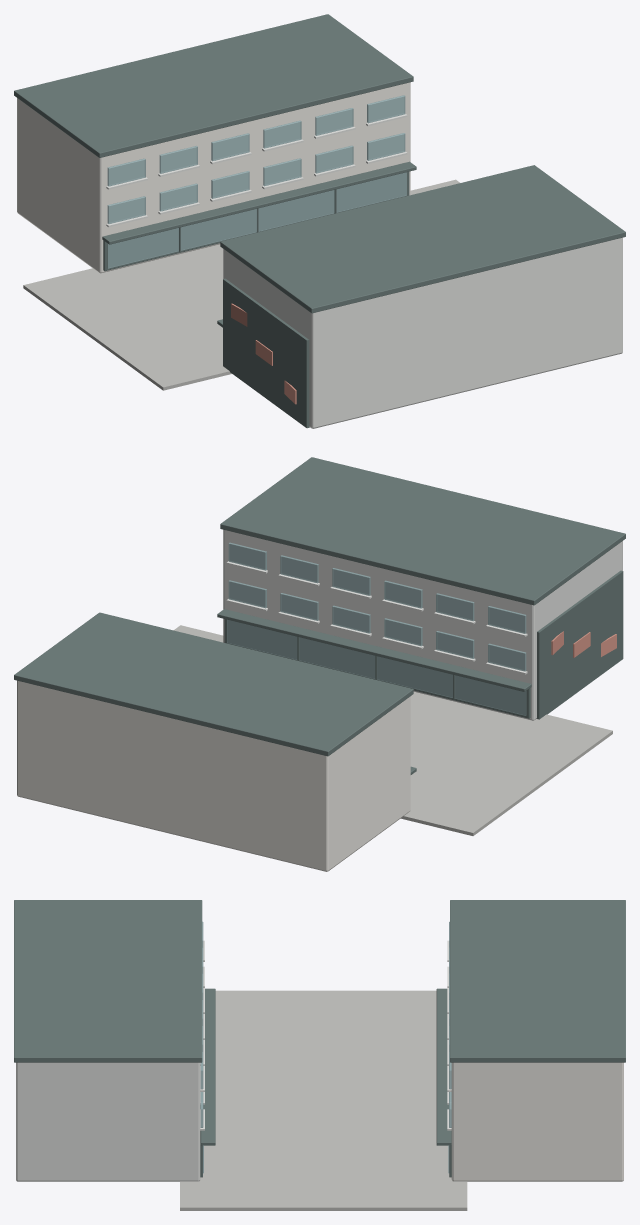
File: xingfuli-west-identity-v2.glb
The picture shows the model from 3 angles, top to bottom: view 1: azimuth 30°, elevation 25°; view 2: azimuth 150°, elevation 25°; view 3: azimuth 270°, elevation 25°; orthographic projection. The views are drawn at different scales.
Visible parts, largest first — view 1: xingfuli-west-identity-v2; view 2: xingfuli-west-identity-v2; view 3: xingfuli-west-identity-v2.
Boxes of the visible parts, x1,y1,x2,y2 form: xingfuli-west-identity-v2: [14, 14, 625, 428]; xingfuli-west-identity-v2: [14, 457, 625, 871]; xingfuli-west-identity-v2: [14, 900, 625, 1210].
Size of the model in its own units: 25 by 6.89 by 29.83.
